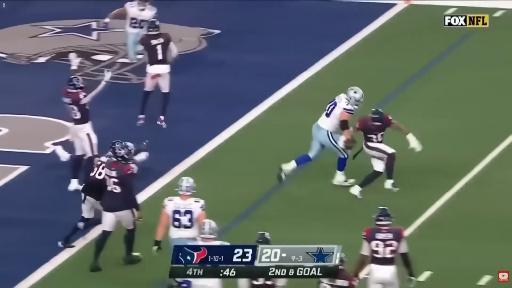Helmet: (111, 143, 134, 163), (176, 177, 195, 195), (200, 220, 218, 238), (375, 207, 392, 225), (347, 87, 363, 106), (67, 76, 83, 90), (371, 109, 385, 123), (147, 19, 160, 34), (338, 251, 347, 271), (256, 232, 270, 244), (110, 140, 122, 150), (137, 0, 150, 9)
Jersey: (102, 159, 139, 212), (361, 227, 408, 265), (164, 197, 204, 238), (318, 94, 356, 131), (82, 156, 109, 201), (63, 88, 90, 125), (140, 33, 171, 65), (124, 2, 156, 32), (357, 116, 392, 143), (319, 261, 353, 287), (319, 266, 353, 287), (236, 277, 286, 287), (190, 279, 222, 287)
Player: (278, 87, 363, 185), (58, 140, 122, 248), (90, 143, 141, 271), (350, 109, 422, 198), (63, 70, 111, 190), (354, 207, 415, 287), (58, 156, 108, 248), (138, 20, 178, 128), (154, 177, 205, 256), (104, 0, 157, 62), (319, 253, 354, 287), (198, 220, 229, 245), (238, 278, 287, 287)
